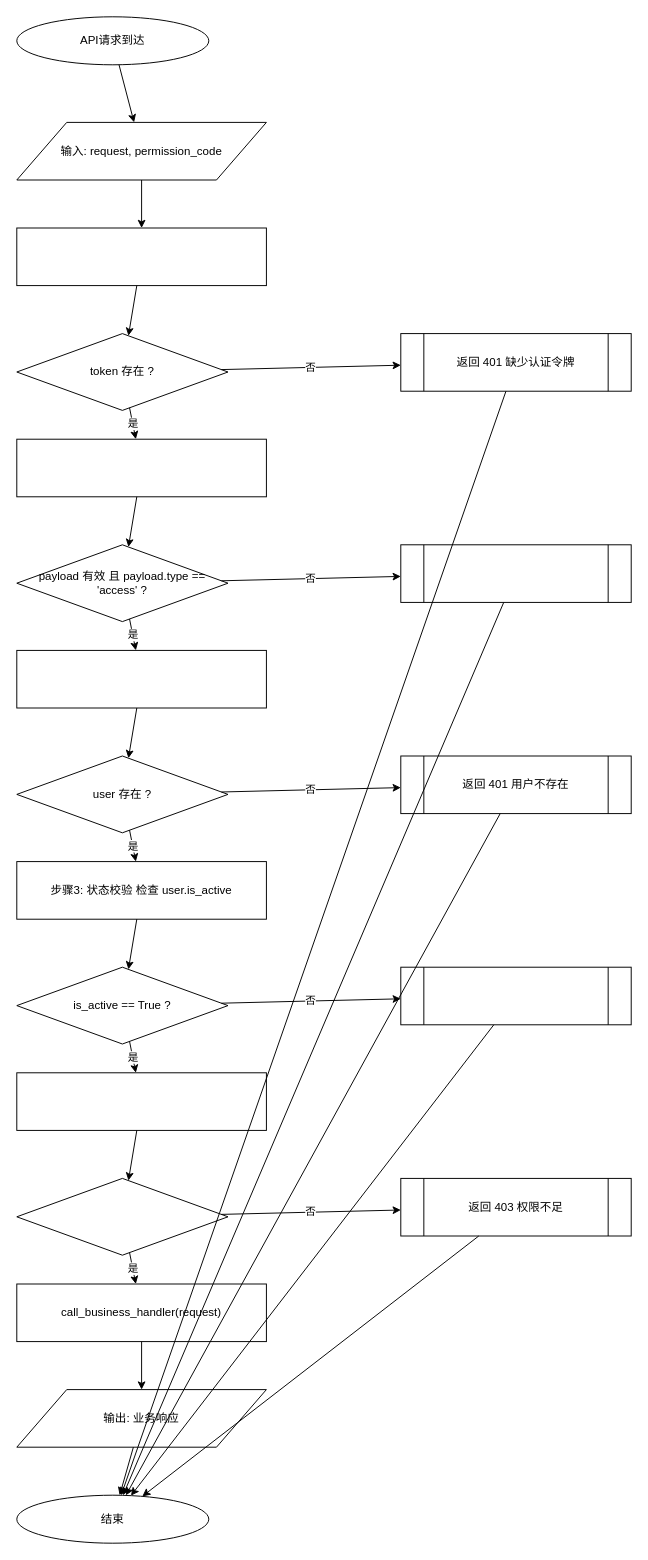
Image size: 648x1560. Some labels were removed from this diagram. The centre of each missing label's shape, as x and y in pixels:
"payload = jwt.decode(token, SECRET, HS256)" goes at point (141, 467).
"permission_code ∈ permissions ?" goes at point (122, 1216).
"步骤1: 提取令牌 token = extract_bearer_token(...)" goes at point (141, 256).
"步骤2: 身份查询 user = User.query.get(sub)" goes at point (141, 678).
"步骤4: 权限匹配 permissions = ⋃ role.permissions" goes at point (141, 1101).
"返回 401 令牌无效" goes at point (515, 573).
"返回 401 账号已禁用" goes at point (515, 995).
